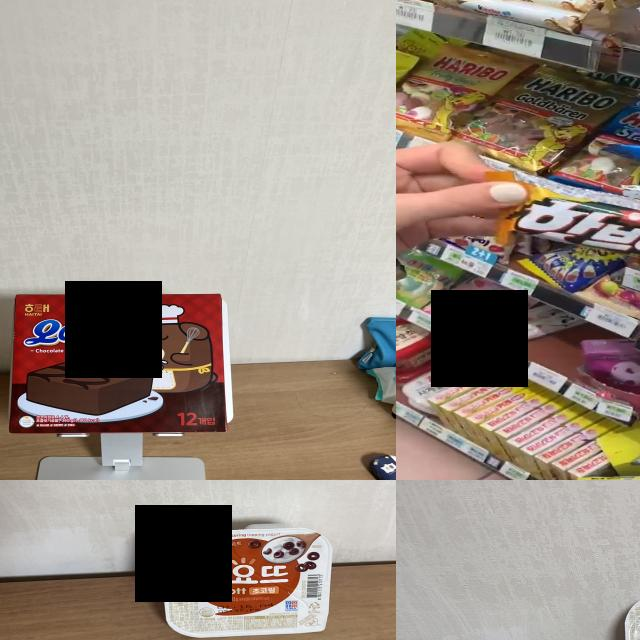bYott: (163, 527, 334, 634)
hotBreak: (470, 161, 640, 316)
ohYes: (11, 297, 224, 433)
